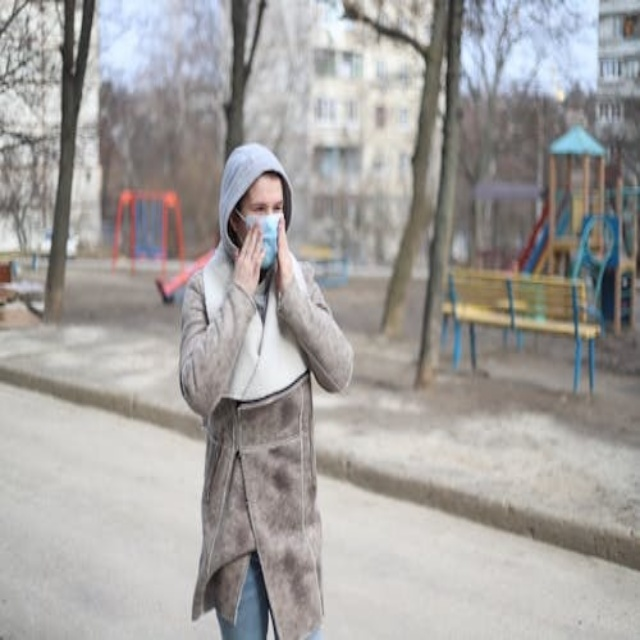Mascara: (240, 211, 281, 269)
Sin_gafas: (244, 192, 292, 227)
Sin_guantes: (227, 225, 264, 298)
